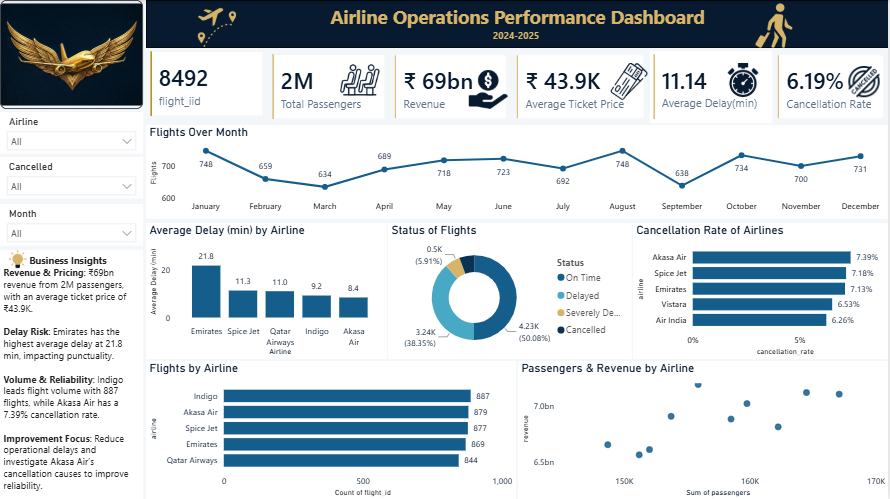

What the dashboard file says about the page in this screenshot:
{"tool":"powerbi","page":{"name":"Page 1","canvas":[1280,720],"ordinal":0},"visuals":[{"type":"cardVisual","fields":{"Data":["Count(final_airline_cleaned.flight_id)"]},"box":[210.2,73.4,174.1,103.9],"z":0},{"type":"cardVisual","fields":{"Data":["Sum(final_airline_cleaned.passengers)"]},"box":[387.8,73.2,172.7,103.9],"z":1000},{"type":"cardVisual","fields":{"Data":["final_airline_cleaned.revenue"]},"box":[563.4,73.2,172.7,103.9],"z":2000},{"type":"cardVisual","fields":{"Data":["Avg(final_airline_cleaned.ticket_price)"]},"box":[739,73.2,194.6,103.9],"z":3000},{"type":"cardVisual","fields":{"Data":["Avg(final_airline_cleaned.departure_delay)"]},"box":[936.6,73.2,175.6,103.9],"z":4000},{"type":"cardVisual","fields":{"Data":["final_airline_cleaned.cancellation_rate"]},"box":[1115.1,73.2,163.9,103.9],"z":5000},{"type":"textbox","box":[210.7,0,1069.8,68.8],"z":6000},{"type":"barChart","title":"Flights by Airline","fields":{"Category":["final_airline_cleaned.airline"],"Y":["CountNonNull(final_airline_cleaned.flight_id)"]},"box":[210.2,519.8,532.8,200.2],"z":7000},{"type":"donutChart","title":"Status of Flights","fields":{"Category":["final_airline_cleaned.status"],"Y":["CountNonNull(final_airline_cleaned.flight_id)"]},"box":[558.7,321.1,351.4,195.8],"z":8000},{"type":"lineChart","title":"Flights Over Month","fields":{"Category":["final_airline_cleaned.flight_date.Variation.Date Hierarchy.Month"],"Y":["CountNonNull(final_airline_cleaned.flight_id)"]},"box":[210.7,180,1068.3,134.6],"z":9000},{"type":"clusteredColumnChart","fields":{"Category":["final_airline_cleaned.airline"],"Y":["Avg(final_airline_cleaned.departure_delay)"]},"box":[210.7,320.5,346.8,196.1],"z":10000},{"type":"clusteredBarChart","title":"Cancellation Rate of Airlines","fields":{"Category":["final_airline_cleaned.airline"],"Y":["final_airline_cleaned.cancellation_rate"]},"box":[911.5,321.1,367.2,195.8],"z":11000},{"type":"scatterChart","title":"Passengers & Revenue  by Airline","fields":{"Category":["final_airline_cleaned.airline"],"X":["Sum(final_airline_cleaned.passengers)"],"Y":["final_airline_cleaned.revenue"]},"box":[746.3,519.5,534.1,200.5],"z":12000},{"type":"slicer","fields":{"Values":["final_airline_cleaned.flight_date.Variation.Date Hierarchy.Month"]},"box":[0,293.8,205.9,60.5],"z":13000},{"type":"slicer","fields":{"Values":["final_airline_cleaned.airline"]},"box":[0,161.3,205.9,60],"z":14000},{"type":"slicer","fields":{"Values":["final_airline_cleaned.cancelled"]},"box":[0,226.1,205.9,60.5],"z":15000},{"type":"textbox","box":[0,360,205.9,360],"z":17000},{"type":"image","box":[312.5,87.8,72,59],"z":18000},{"type":"image","box":[476.6,83.5,83.5,63.4],"z":19000},{"type":"image","box":[671,100.8,63.4,56.2],"z":20000},{"type":"image","box":[878.4,90.7,54.7,53.3],"z":21000},{"type":"image","box":[1033.9,90.7,77.8,49],"z":22000},{"type":"image","box":[1219.7,95,49,44.6],"z":23000},{"type":"image","box":[205.9,10.1,213.1,59],"z":23002},{"type":"image","box":[1044,4.3,141.1,64.8],"z":23003},{"type":"image","box":[11.5,360,27.4,25.9],"z":23004},{"type":"image","box":[0,0,205.9,157],"z":23005}]}

Visuals, with their boxes in screenshot pixels (x1, y1, x2, y2), scaled from the page's 1280x720 canvas onto the 890x499 screenshot:
cardVisual - Count(final_airline_cleaned.flight_id): (146,51,267,123)
cardVisual - Sum(final_airline_cleaned.passengers): (270,51,390,123)
cardVisual - final_airline_cleaned.revenue: (392,51,512,123)
cardVisual - Avg(final_airline_cleaned.ticket_price): (514,51,649,123)
cardVisual - Avg(final_airline_cleaned.departure_delay): (651,51,773,123)
cardVisual - final_airline_cleaned.cancellation_rate: (775,51,889,123)
textbox: (147,0,889,48)
"Flights by Airline" barChart: (146,360,517,498)
"Status of Flights" donutChart: (388,223,633,358)
"Flights Over Month" lineChart: (147,125,889,218)
clusteredColumnChart - final_airline_cleaned.airline x Avg(final_airline_cleaned.departure_delay): (147,222,388,358)
"Cancellation Rate of Airlines" clusteredBarChart: (634,223,889,358)
"Passengers & Revenue  by Airline" scatterChart: (519,360,889,498)
slicer - final_airline_cleaned.flight_date.Variation.Date Hierarchy.Month: (0,204,143,246)
slicer - final_airline_cleaned.airline: (0,112,143,153)
slicer - final_airline_cleaned.cancelled: (0,157,143,199)
textbox: (0,250,143,498)
image: (217,61,267,102)
image: (331,58,389,102)
image: (467,70,511,109)
image: (611,63,649,100)
image: (719,63,773,97)
image: (848,66,882,97)
image: (143,7,291,48)
image: (726,3,824,48)
image: (8,250,27,267)
image: (0,0,143,109)
